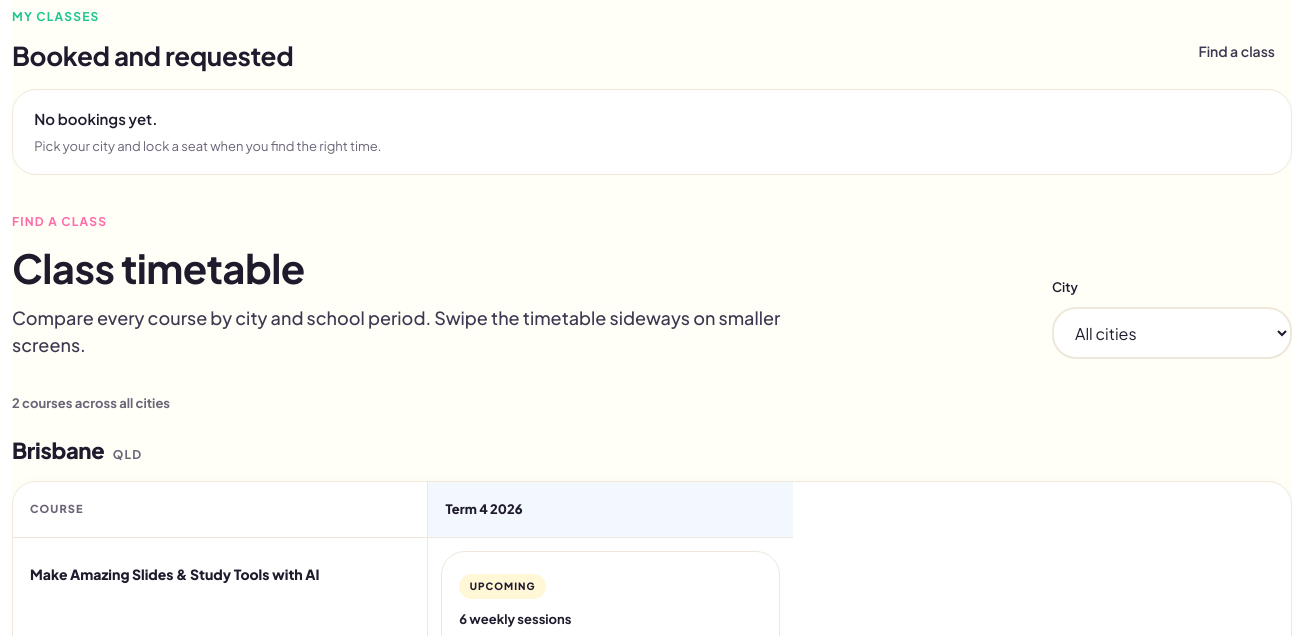
Test case: FindClassesPage › shows planned courses from every catalog city when no class seats are open
The image size is (1304, 636).
Expected: the text "2 courses across all cities" is shown, [12, 395, 170, 411]
Expected: the heading "Class timetable" is shown, [12, 242, 305, 293]
Select "Sydney, NSW" in the dropdown labelled "City" at [1172, 333], box [1052, 307, 1292, 359]
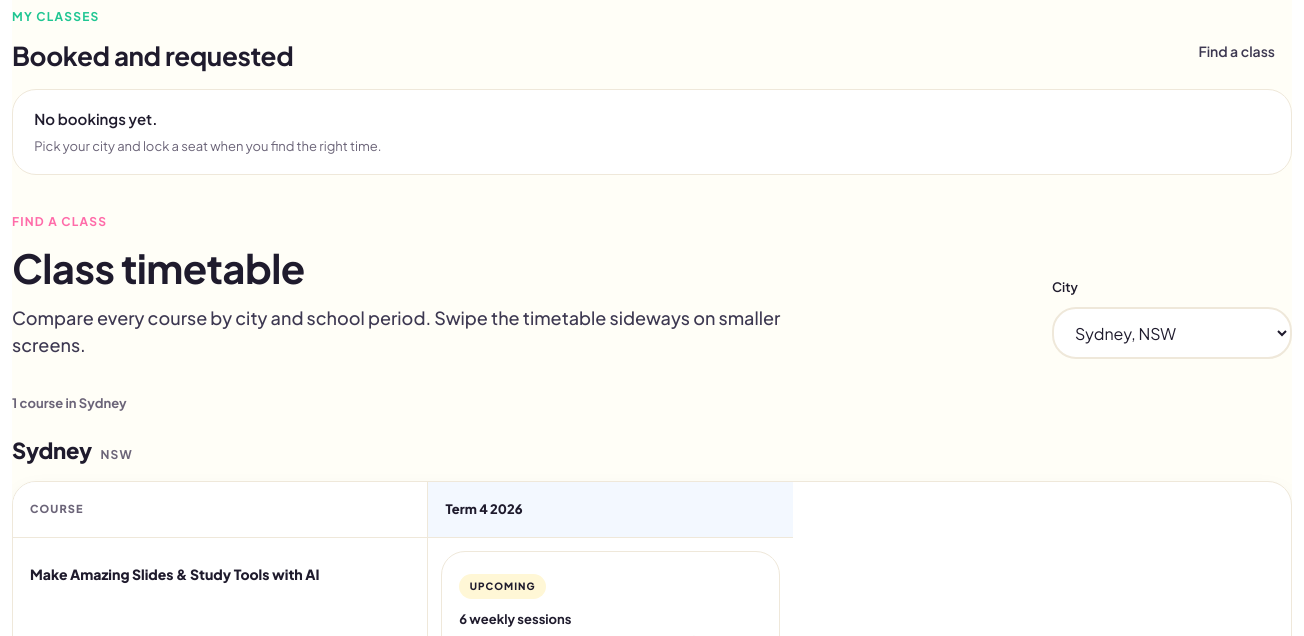
Expected: the number of links "Make Amazing Slides & Study Tools with AI" is 1, [30, 566, 320, 584]
Result: the text "1 course in Sydney" is shown at [12, 395, 127, 411]
